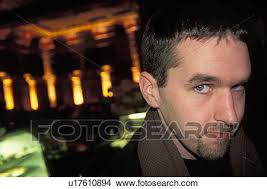white_male: (167, 44, 252, 152)
